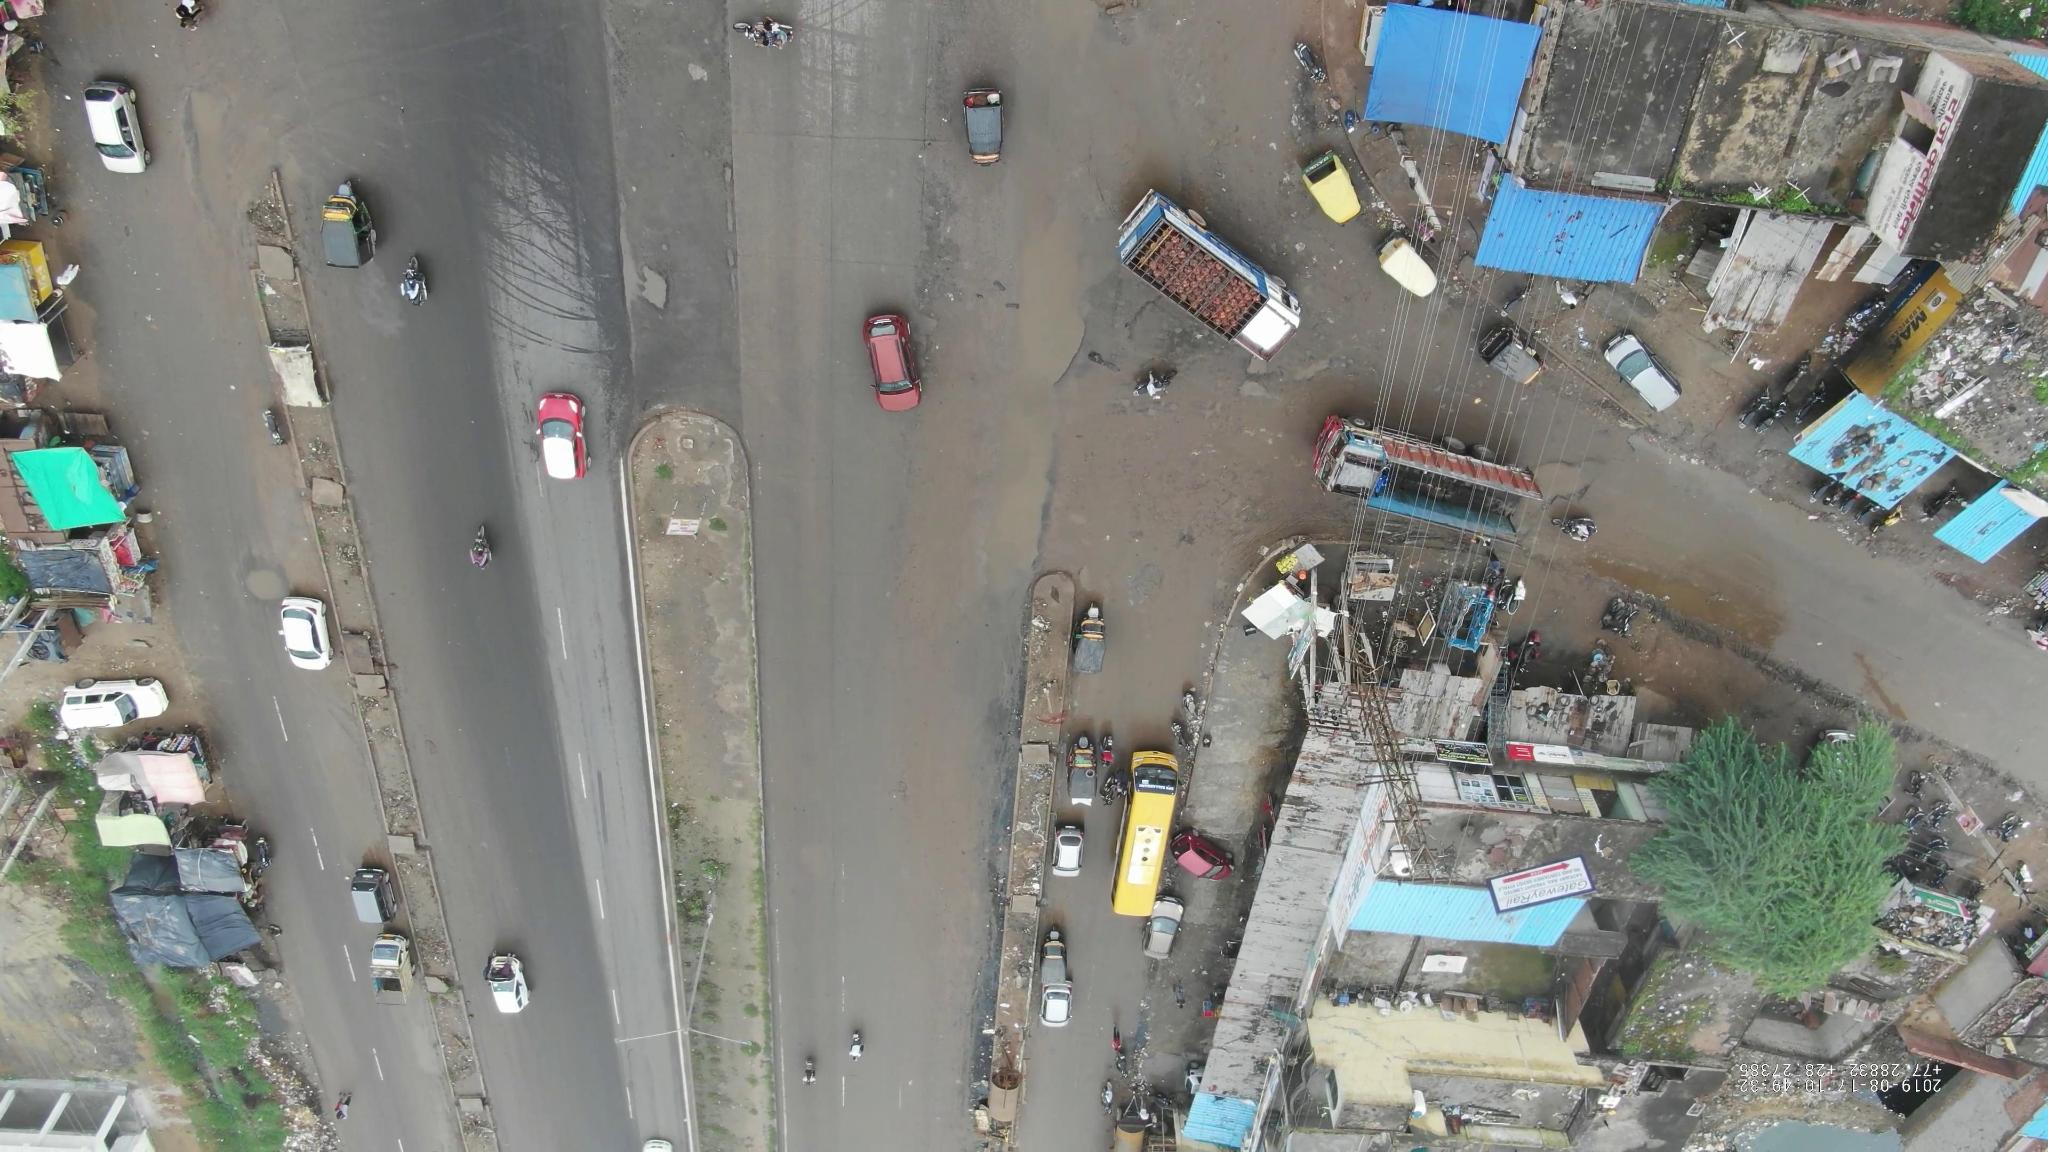Waterlogging: (1596, 554, 1800, 668)
